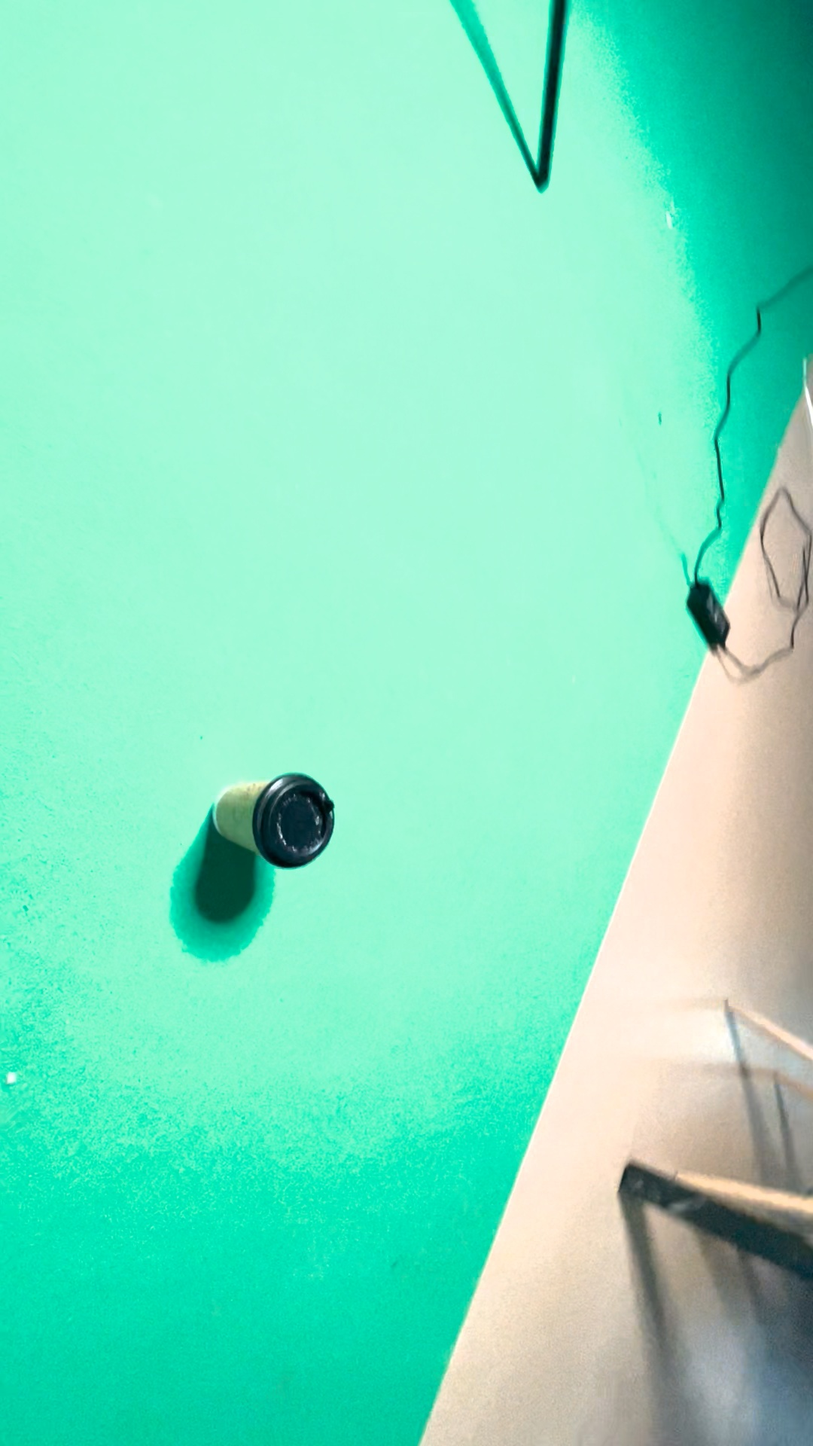cup: (445, 674, 527, 1077)
